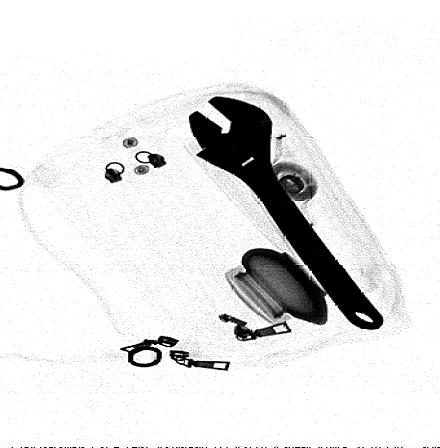Wrench: (188, 96, 385, 332)
